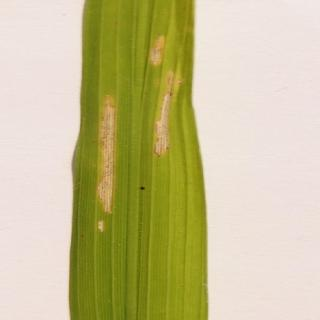Hawar-Daun: (139, 73, 190, 171), (92, 88, 125, 221), (140, 23, 177, 74)
